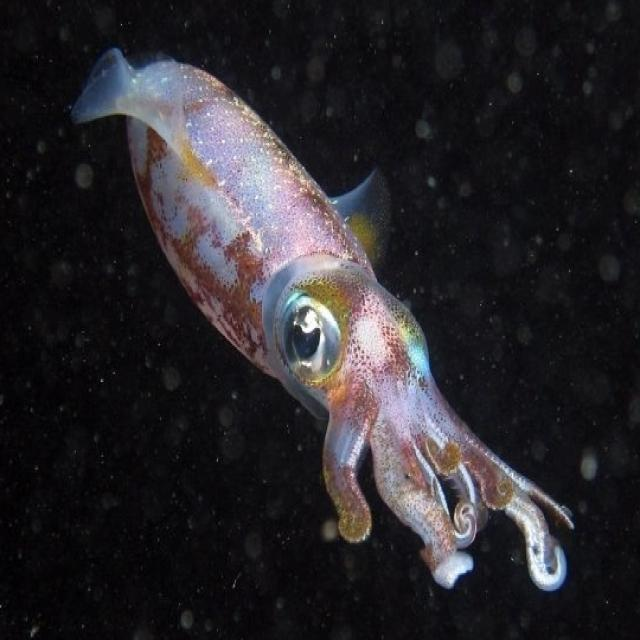SQUID: (54, 8, 588, 608)
